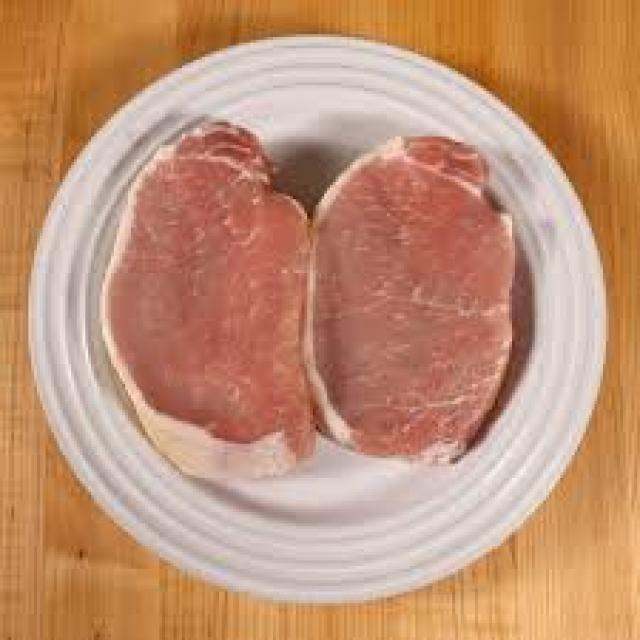Pork: (105, 125, 523, 479)
